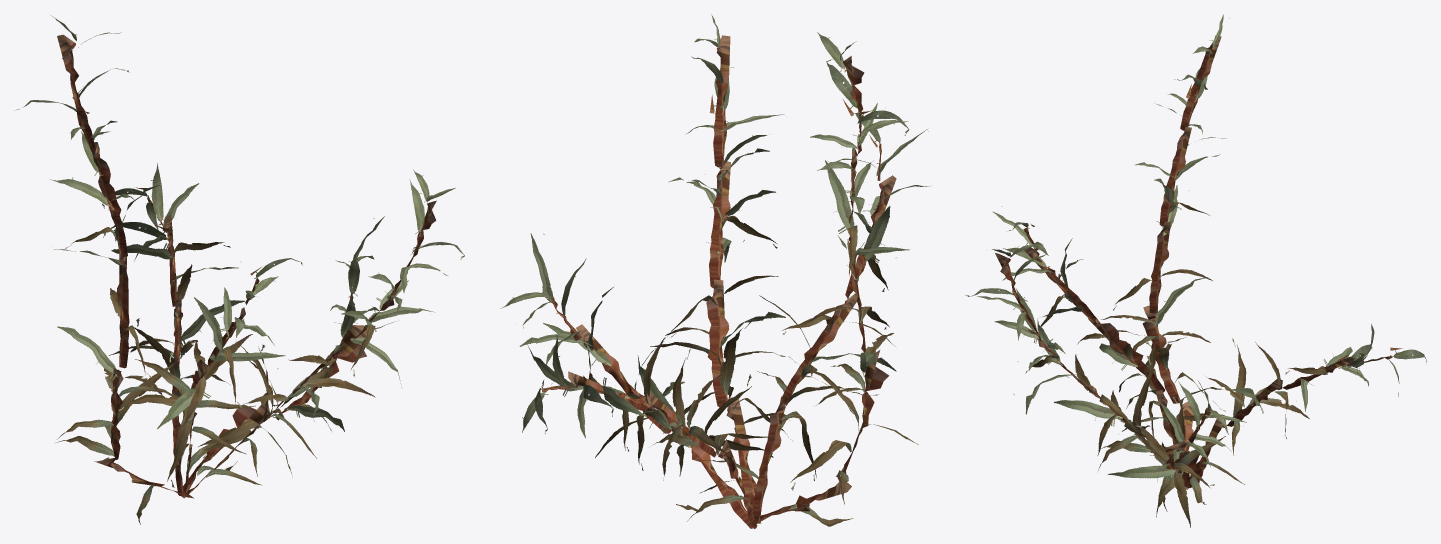
File: shrub_a.glb
The picture shows the model from 3 angles, left to right: view 1: azimuth 30°, elevation 25°; view 2: azimuth 150°, elevation 25°; view 3: azimuth 270°, elevation 25°; orthographic projection. The views are drawn at different scales.
Visible parts, largest first — view 1: shrub_a; view 2: shrub_a; view 3: shrub_a.
Boxes of the visible parts, box(x1,y1,x2,y2) form: shrub_a: box(14, 15, 464, 524); shrub_a: box(500, 14, 931, 528); shrub_a: box(965, 14, 1426, 527).
Bounding box in the file's own units: 1.33 × 1.7 × 1.65.
Materials: 1 (1 with a texture image).
